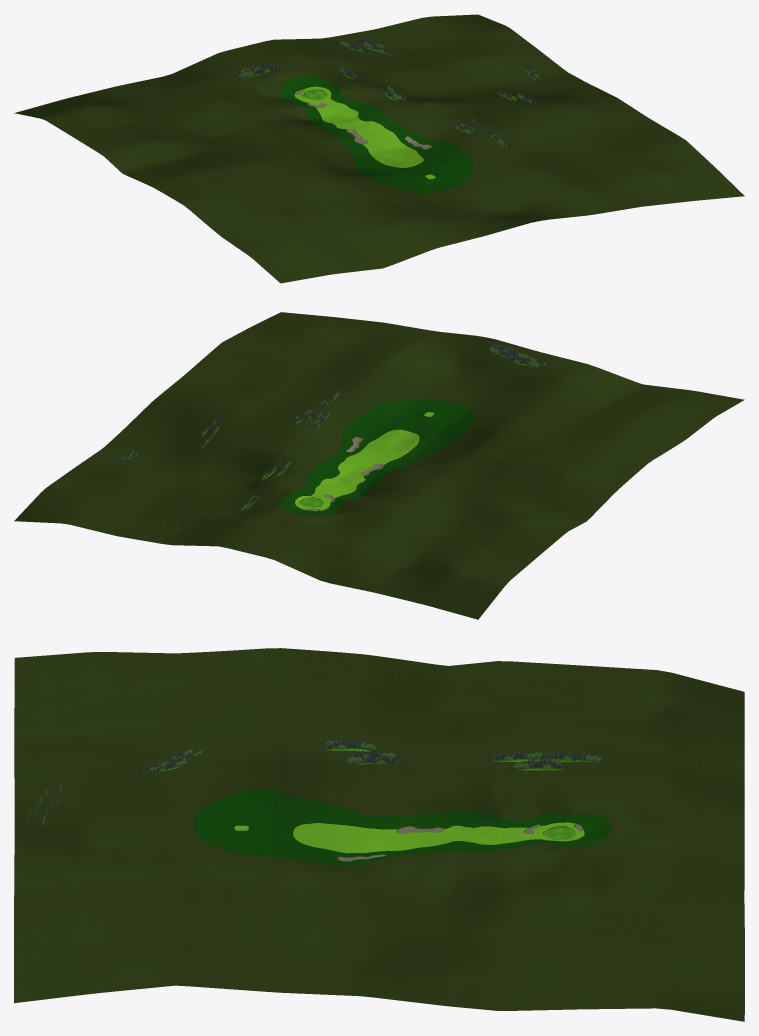
File: glf_course_fc1__glf_course_fc1.glb
3 renders of one model, top to bottom at view 1: azimuth 30°, elevation 25°; view 2: azimuth 150°, elevation 25°; view 3: azimuth 270°, elevation 25°, orthographic. The views are drawn at different scales.
Parts seen in each view (by area): view 1: polygon18, polygon19, polygon11, polygon20; view 2: polygon18, polygon19, polygon11, polygon20; view 3: polygon18, polygon19, polygon11, polygon20.
Boxes of the visible parts, box(x1,y1,x2,y2) form: polygon18: box(14, 14, 744, 283); polygon19: box(280, 76, 472, 193); polygon11: box(294, 86, 435, 179); polygon20: box(229, 38, 540, 151); polygon18: box(14, 312, 744, 619); polygon19: box(278, 399, 475, 514); polygon11: box(295, 412, 434, 510); polygon20: box(113, 342, 554, 533); polygon18: box(14, 648, 744, 1021); polygon19: box(194, 790, 611, 865); polygon11: box(234, 822, 584, 853); polygon20: box(25, 737, 602, 827).
Size of the model in its own units: 8000 by 811 by 7972.
12 materials, 11 textured.
